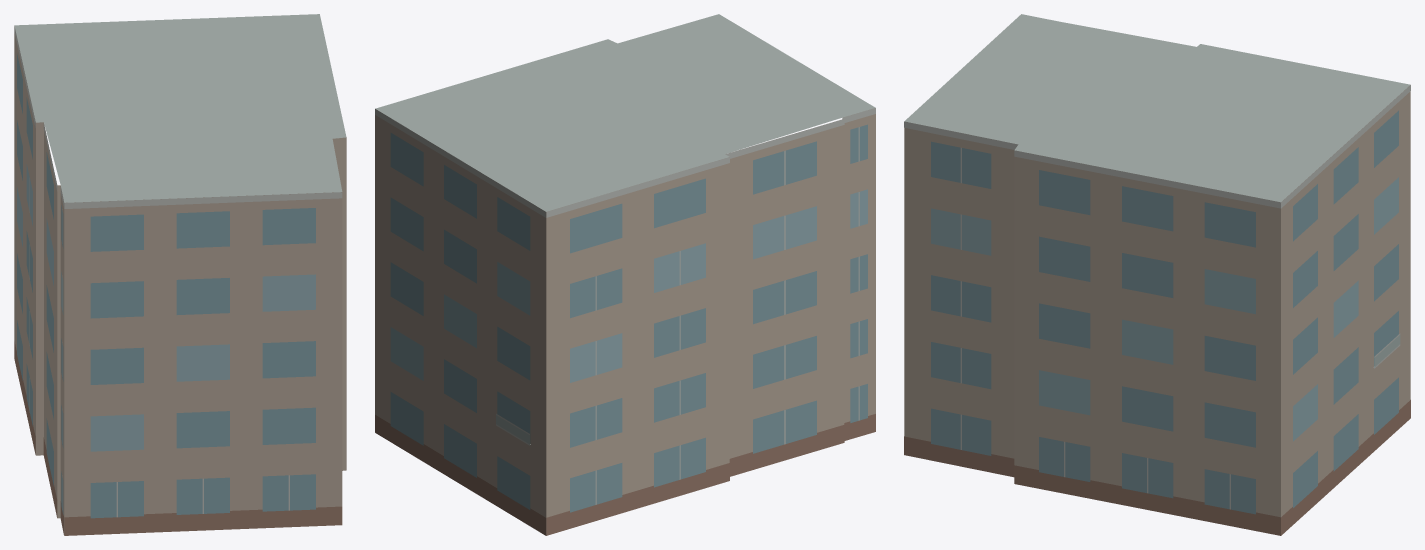
Rendered from survey-upis-32670758.glb.
3 views of the same model, side by side, from view 1: azimuth 30°, elevation 25°; view 2: azimuth 150°, elevation 25°; view 3: azimuth 270°, elevation 25° (orthographic). The views are drawn at different scales.
Visible parts, largest first — view 1: survey-upis-32670758.tmp; view 2: survey-upis-32670758.tmp; view 3: survey-upis-32670758.tmp.
Boxes of the visible parts, <box> form: survey-upis-32670758.tmp: <box>14,14,346,535</box>; survey-upis-32670758.tmp: <box>375,14,875,535</box>; survey-upis-32670758.tmp: <box>904,14,1410,535</box>.
Bounding box in the file's own units: 15.62 × 12.9 × 17.76.
